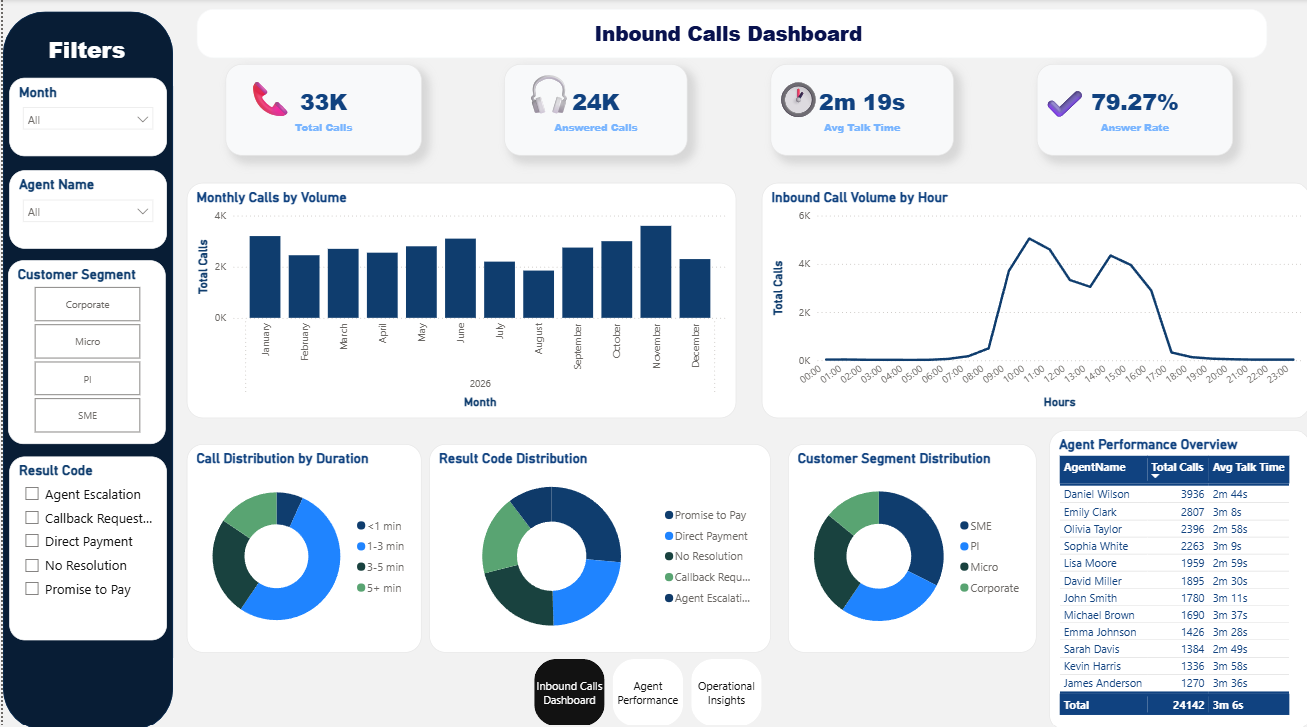

The page's visual inventory and layout, read from the dashboard file:
{"tool":"powerbi","page":{"name":"Inbound Calls Dashboard ","canvas":[1600,900],"ordinal":0},"visuals":[{"type":"card","fields":{"Values":["Sheet1.Answered Calls"]},"box":[613.3,80,224,112],"z":0},{"type":"card","fields":{"Values":["Sheet1.Total Calls"]},"box":[272,80,240,112],"z":1000},{"type":"card","fields":{"Values":["Sheet1.Avg Talk Time Formatted"]},"box":[938.7,80,224,112],"z":2000},{"type":"card","fields":{"Values":["Sheet1.Answer Rate"]},"box":[1264,80,240,112],"z":3000},{"type":"clusteredColumnChart","title":"Monthly Calls by Volume","fields":{"Category":["Sheet1.CallDate.Variation.Date Hierarchy.Year","Sheet1.CallDate.Variation.Date Hierarchy.Month"],"Y":["Sheet1.Total Calls"]},"box":[224,224,672,288],"z":4000},{"type":"lineChart","title":"Inbound Call Volume by Hour","fields":{"Y":["Sheet1.Total Calls"],"Category":["Sheet1.HourLabel1"]},"box":[928,224,672,288],"z":5000},{"type":"donutChart","title":"Call Distribution by Duration","fields":{"Y":["Sheet1.Total Calls"],"Category":["Sheet1.TalkTimeInterval"]},"box":[224.7,544.2,287.4,255.3],"z":6000},{"type":"donutChart","title":"Result Code Distribution","fields":{"Y":["Sheet1.Total Calls"],"Category":["Sheet1.ResultCode"]},"box":[521.2,544.2,417.3,255.3],"z":7000},{"type":"donutChart","title":"Customer Segment Distribution","fields":{"Y":["Sheet1.Total Calls"],"Category":["Sheet1.CustomerSegment"]},"box":[959.9,544.2,304.2,255.3],"z":8000},{"type":"tableEx","title":"Agent Performance Overview","fields":{"Values":["Sheet1.AgentName","Sheet1.Total Calls","Sheet1.Avg Talk Time Formatted"]},"box":[1279.4,527.3,321,368.4],"z":9000},{"type":"textbox","box":[236.9,12.2,1308.4,59.6],"z":10000},{"type":"shape","box":[0,16,208,880],"z":11000},{"type":"textbox","box":[629.8,76.4,79.5,96.3],"z":12000},{"type":"textbox","box":[292,85.6,64.2,79.5],"z":13000},{"type":"textbox","box":[938.5,87.1,79.5,96.3],"z":14000},{"type":"textbox","box":[1264.1,87.1,79.5,96.3],"z":15000},{"type":"slicer","title":"Month","fields":{"Values":["Sheet1.MonthYear"]},"box":[7.6,96.3,192.6,96.3],"z":16000},{"type":"slicer","title":"Agent Name","fields":{"Values":["Sheet1.AgentName"]},"box":[7.6,209.4,192.6,96.3],"z":17000},{"type":"slicer","title":"Customer Segment","fields":{"Values":["Sheet1.CustomerSegment"]},"box":[6.1,319.5,192.6,224.7],"z":18000},{"type":"slicer","title":"Result Code","fields":{"Values":["Sheet1.ResultCode"]},"box":[7.6,559.4,192.6,224.7],"z":19000},{"type":"textbox","box":[39.7,38.2,125.3,65.7],"z":20000},{"type":"pageNavigator","box":[649.6,807.1,278.2,82.5],"z":20001}]}

Visuals, with their boxes in screenshot pixels (x1, y1, x2, y2), scaled from the page's 1600x900 canvas onto the 1307x727 screenshot:
card - Sheet1.Answered Calls: [501, 65, 684, 155]
card - Sheet1.Total Calls: [222, 65, 418, 155]
card - Sheet1.Avg Talk Time Formatted: [767, 65, 950, 155]
card - Sheet1.Answer Rate: [1033, 65, 1229, 155]
"Monthly Calls by Volume" clusteredColumnChart: [183, 181, 732, 414]
"Inbound Call Volume by Hour" lineChart: [758, 181, 1306, 414]
"Call Distribution by Duration" donutChart: [184, 440, 418, 646]
"Result Code Distribution" donutChart: [426, 440, 767, 646]
"Customer Segment Distribution" donutChart: [784, 440, 1033, 646]
"Agent Performance Overview" tableEx: [1045, 426, 1306, 724]
textbox: [194, 10, 1262, 58]
shape: [0, 13, 170, 724]
textbox: [514, 62, 579, 140]
textbox: [239, 69, 291, 133]
textbox: [767, 70, 832, 148]
textbox: [1033, 70, 1098, 148]
"Month" slicer: [6, 78, 164, 156]
"Agent Name" slicer: [6, 169, 164, 247]
"Customer Segment" slicer: [5, 258, 162, 440]
"Result Code" slicer: [6, 452, 164, 633]
textbox: [32, 31, 135, 84]
pageNavigator: [531, 652, 758, 719]
